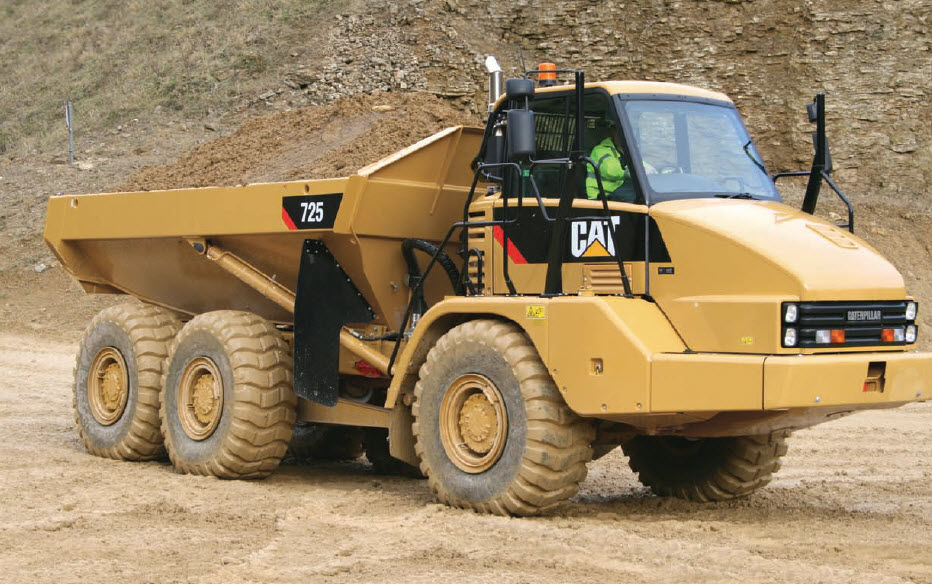truck: (45, 81, 885, 485)
